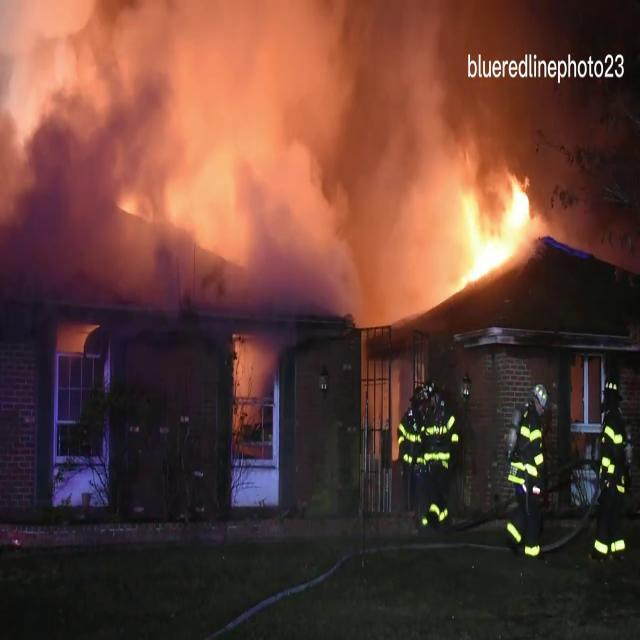Fire: (426, 159, 548, 294)
Smoke: (0, 0, 464, 304)
